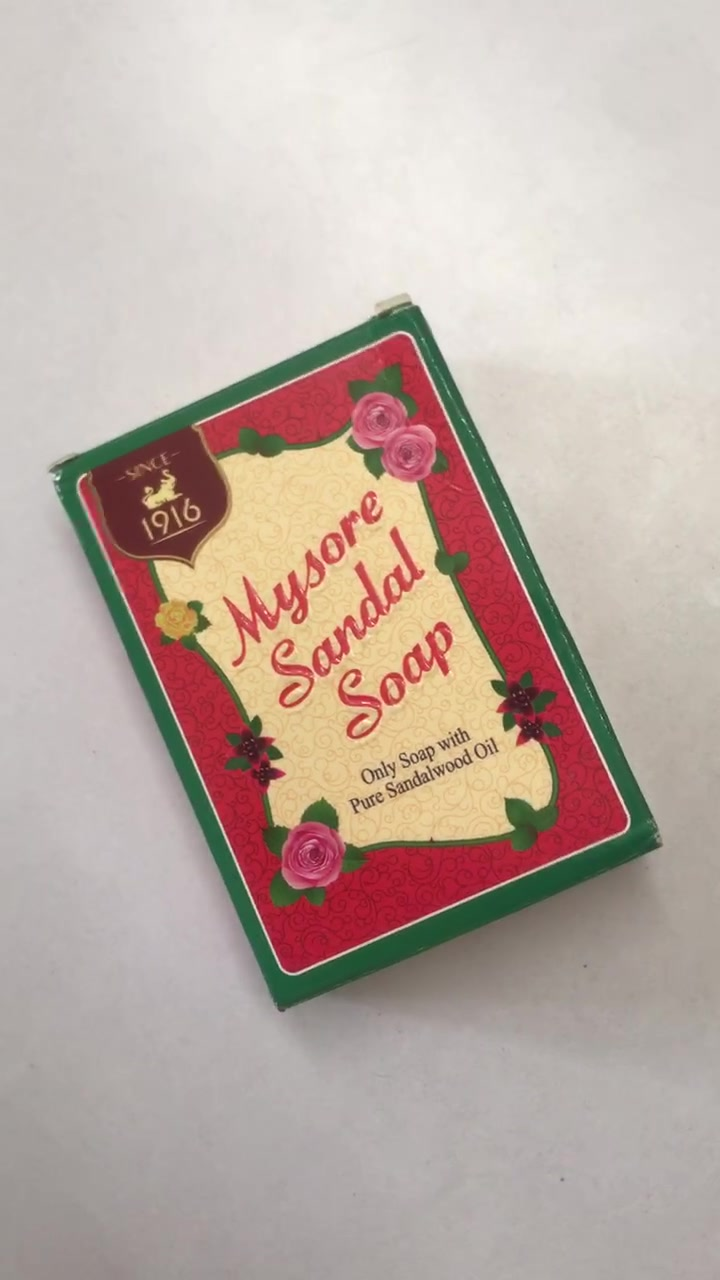mysore sandal soap: (51, 299, 660, 1010)
